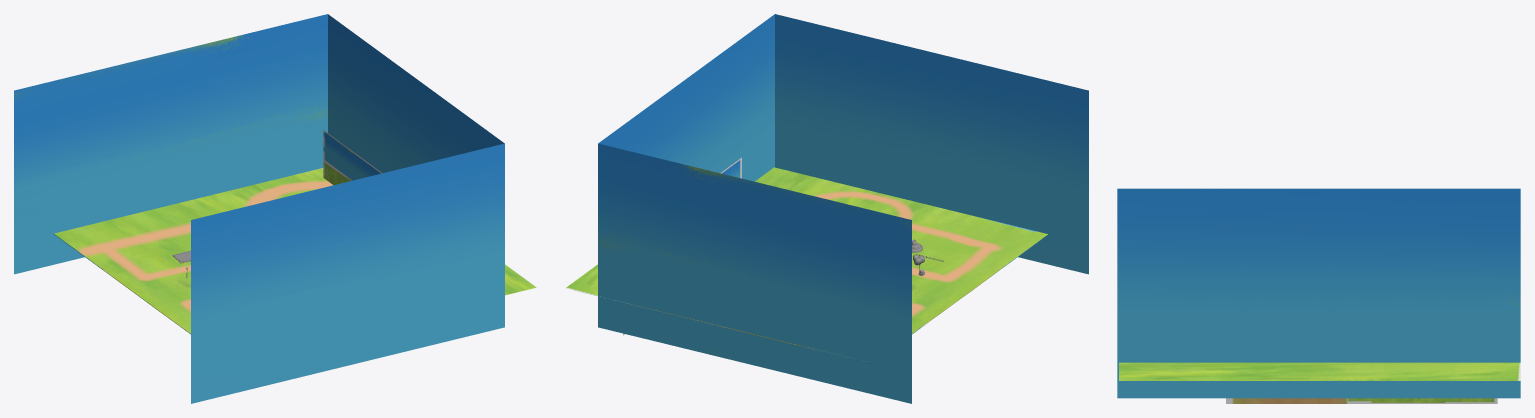
Rendered from B_PARK (1).FBX.
3 views of the same model, side by side, from view 1: azimuth 30°, elevation 25°; view 2: azimuth 150°, elevation 25°; view 3: azimuth 270°, elevation 25° (orthographic). The views are drawn at different scales.
Parts seen in each view (by area): view 1: Object037, Object038; view 2: Object037, Object038; view 3: Object037, Object038.
Boxes of the visible parts, <box> form: Object037: <box>14,14,504,403</box>; Object038: <box>54,168,536,334</box>; Object037: <box>598,14,1088,403</box>; Object038: <box>565,167,1047,363</box>; Object037: <box>1117,188,1520,403</box>; Object038: <box>1119,362,1520,380</box>.
Size of the model in its own units: 18327 by 9911 by 16211.
Materials: 4 (2 with a texture image).
